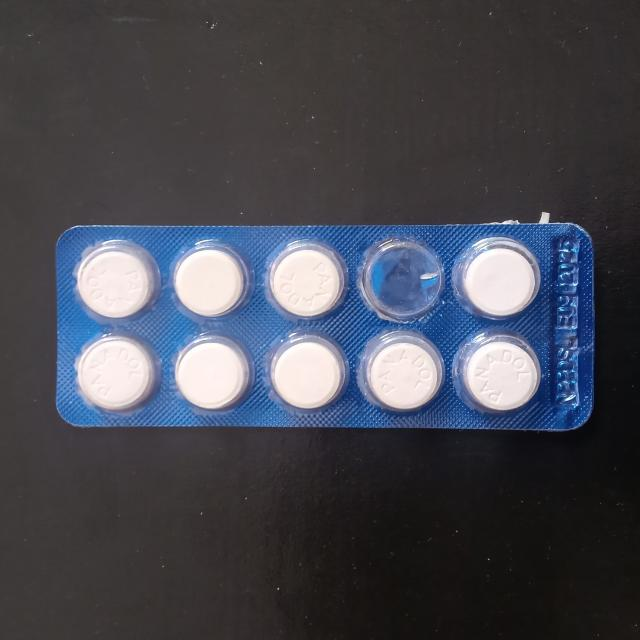defect: (354, 236, 448, 321)
